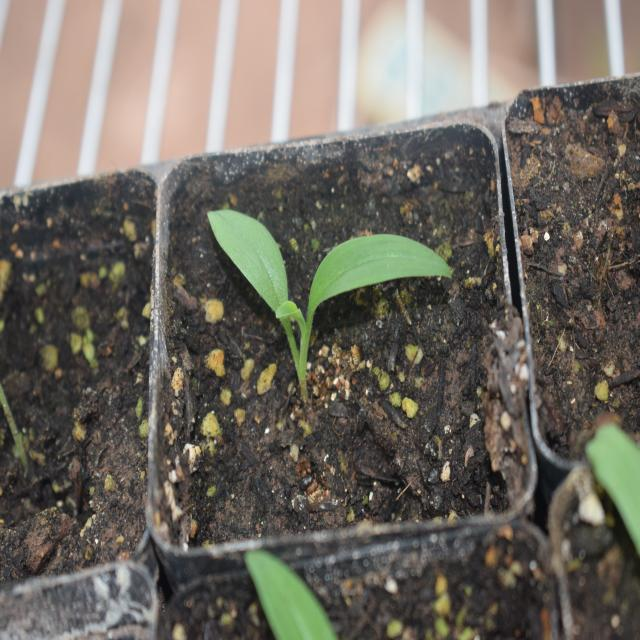Common Dayflower: (198, 193, 460, 358)
